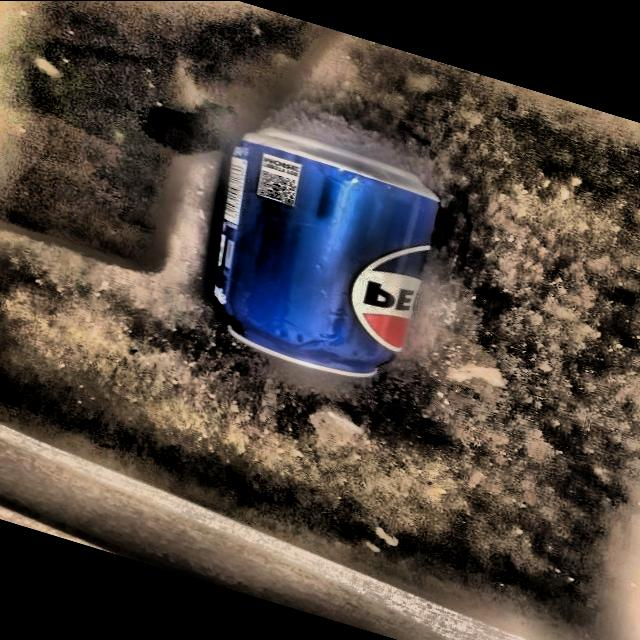pepsi-can: (212, 109, 451, 390)
